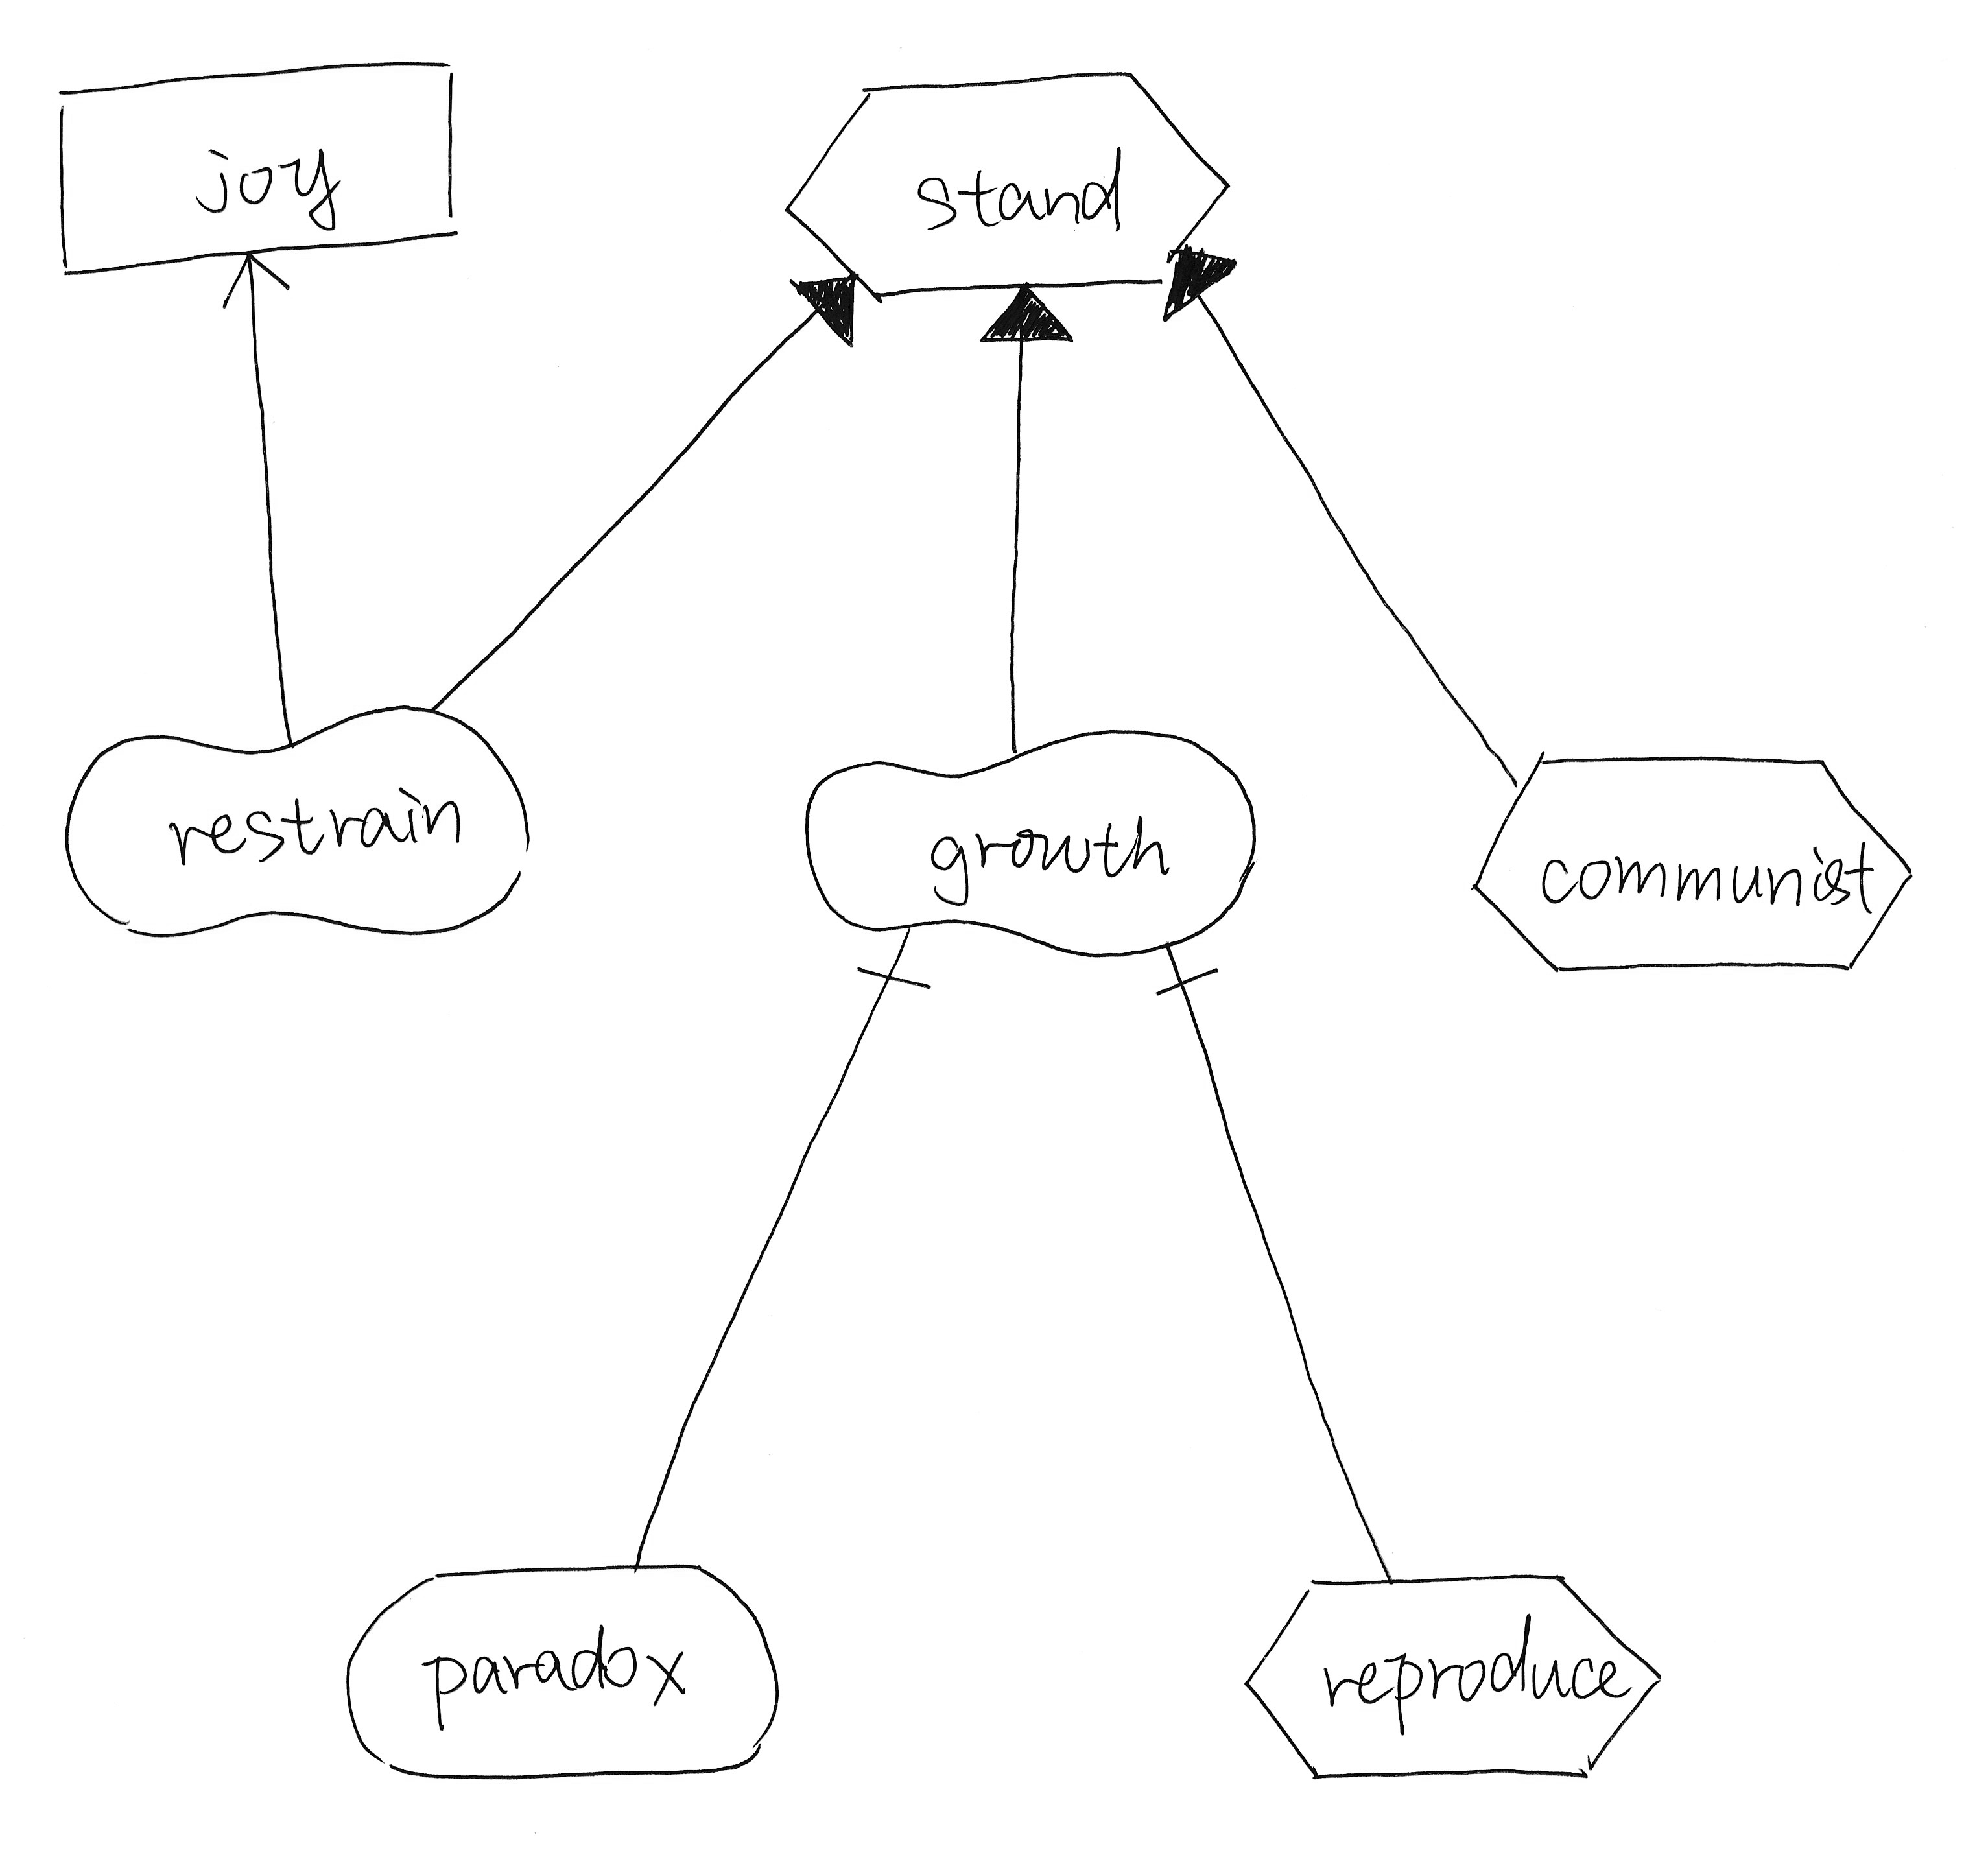and: (836, 932, 949, 1012), (1128, 946, 1241, 1021)
arrow: (206, 246, 300, 325)
goal: (319, 1536, 794, 1805)
or: (33, 40, 480, 298), (974, 272, 1087, 363), (1147, 232, 1250, 330), (778, 265, 867, 361)
quality: (45, 686, 550, 962), (791, 712, 1276, 976)
task: (1459, 735, 1927, 991), (777, 52, 1241, 311), (1232, 1559, 1677, 1798)
